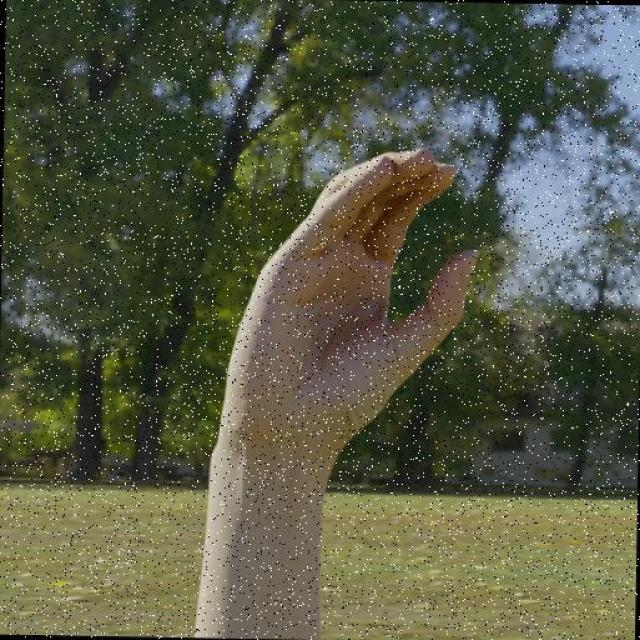C: (214, 139, 483, 456)
